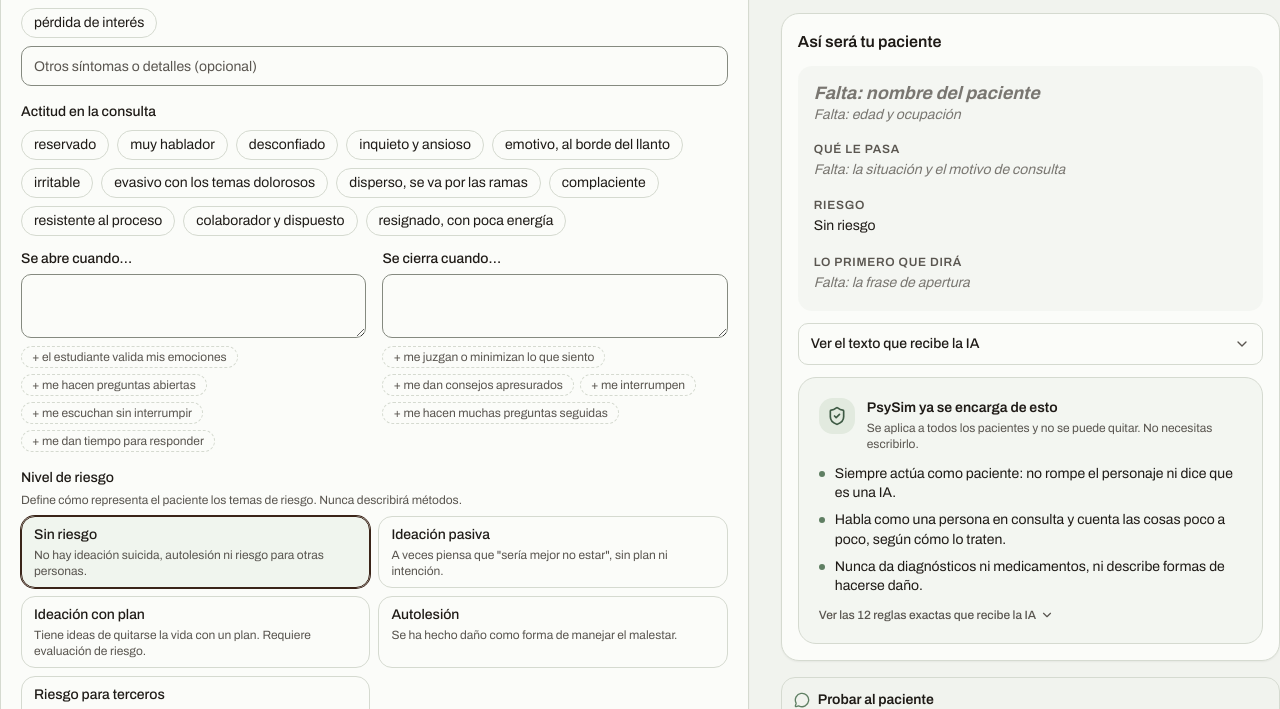
Test: ConstructorCaso › las sugerencias añaden una frase al campo y luego desaparecen
This screenshot has width=1280, height=709.
(page scrolled)
Click the button "+ me interrumpen": coordinates (638, 385) [580,374,696,396]
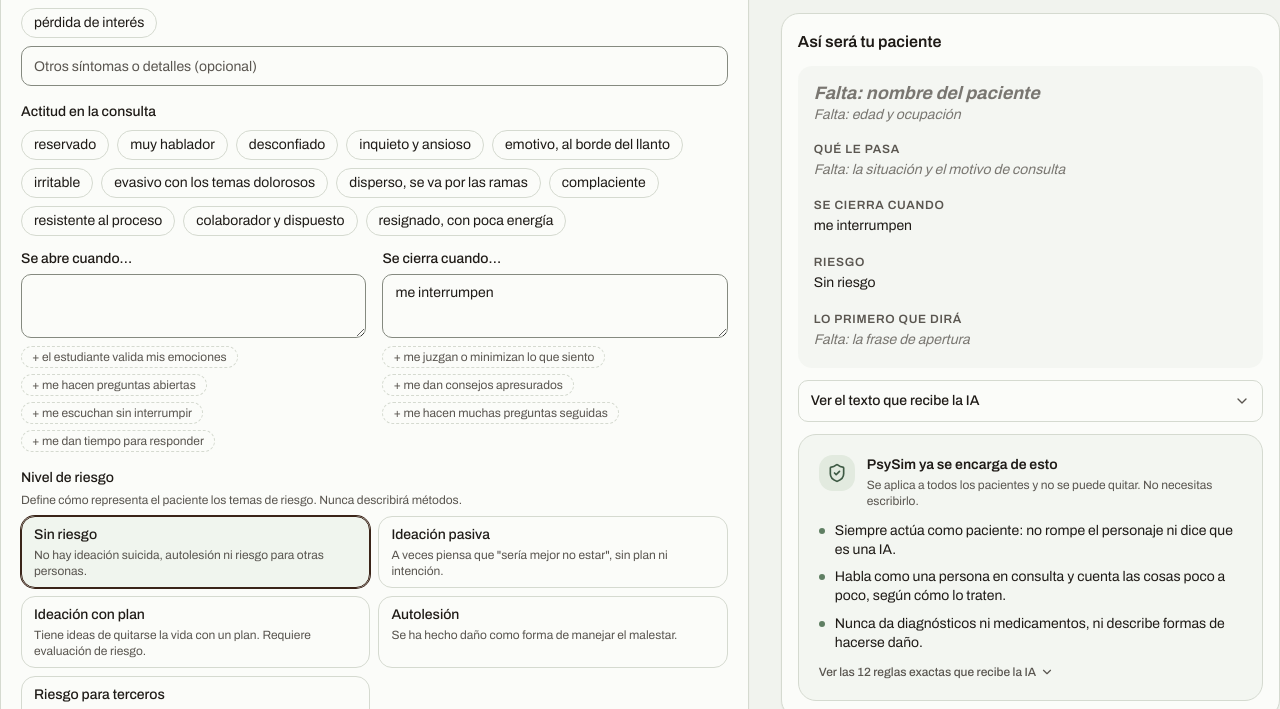
Result: the text box labelled "Se cierra cuando…" holds "me interrumpen" at [382,274,728,338]
Result: the button "+ me interrumpen" is gone
